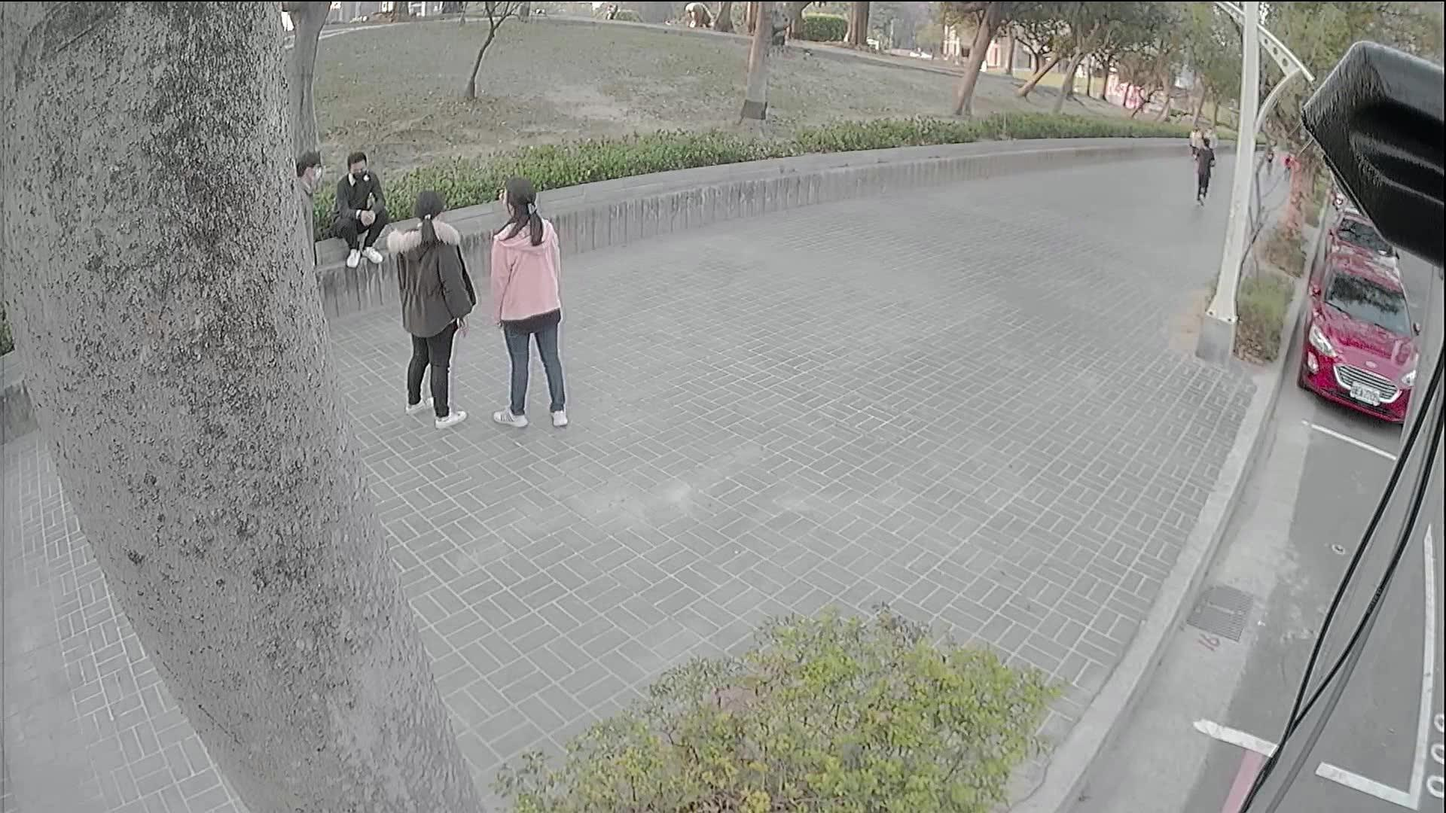person: (383, 204, 474, 416), (490, 186, 563, 427), (334, 151, 386, 261), (292, 157, 322, 262), (1188, 126, 1214, 206)
